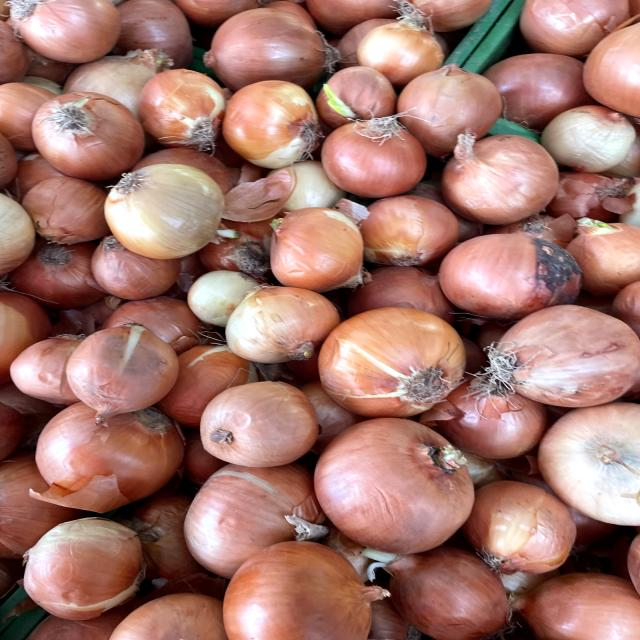onion: (308, 413, 483, 558), (472, 291, 640, 412), (12, 511, 153, 623), (91, 159, 236, 264), (431, 117, 565, 224), (55, 317, 176, 428), (188, 369, 320, 469), (439, 228, 592, 310), (23, 85, 152, 177), (212, 76, 336, 166), (316, 107, 429, 202), (540, 93, 640, 176)
